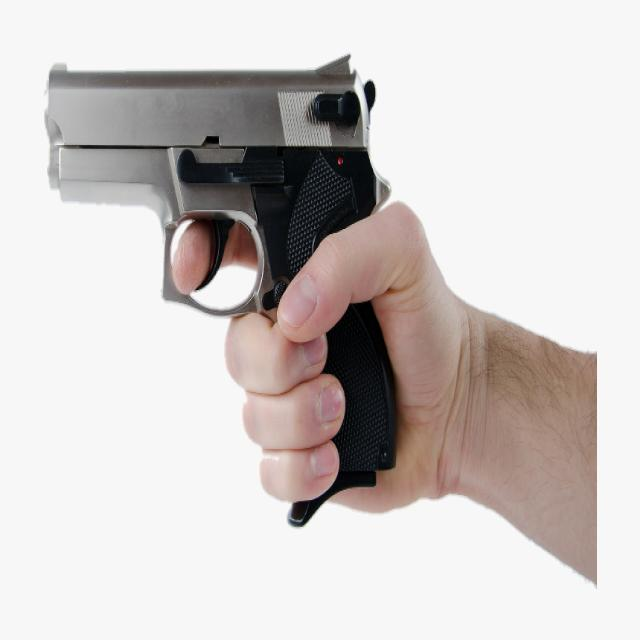HandGun: (45, 55, 397, 520)
